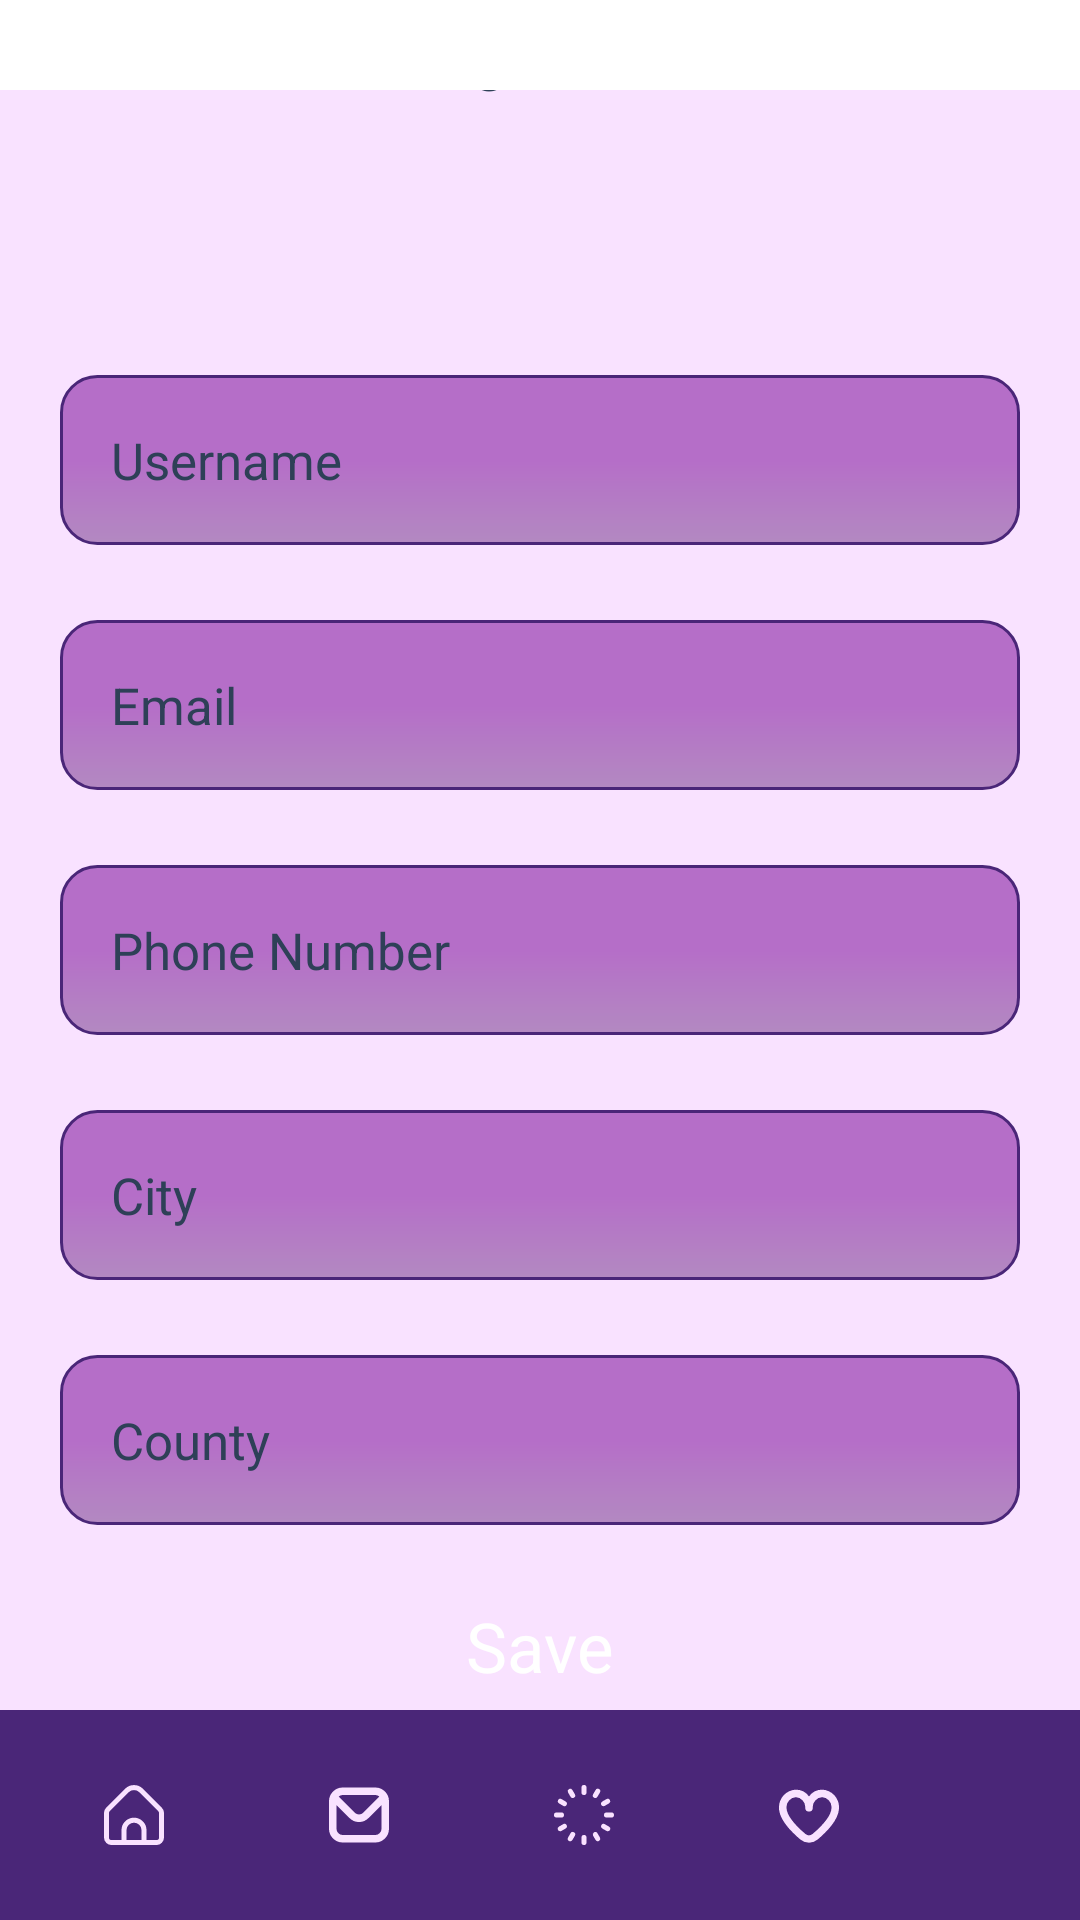

Named icons in this screenshot (1080*1920) and their centers, point (x, y):
home: point (134, 1815)
messages: point (359, 1815)
wishlist: point (809, 1816)
